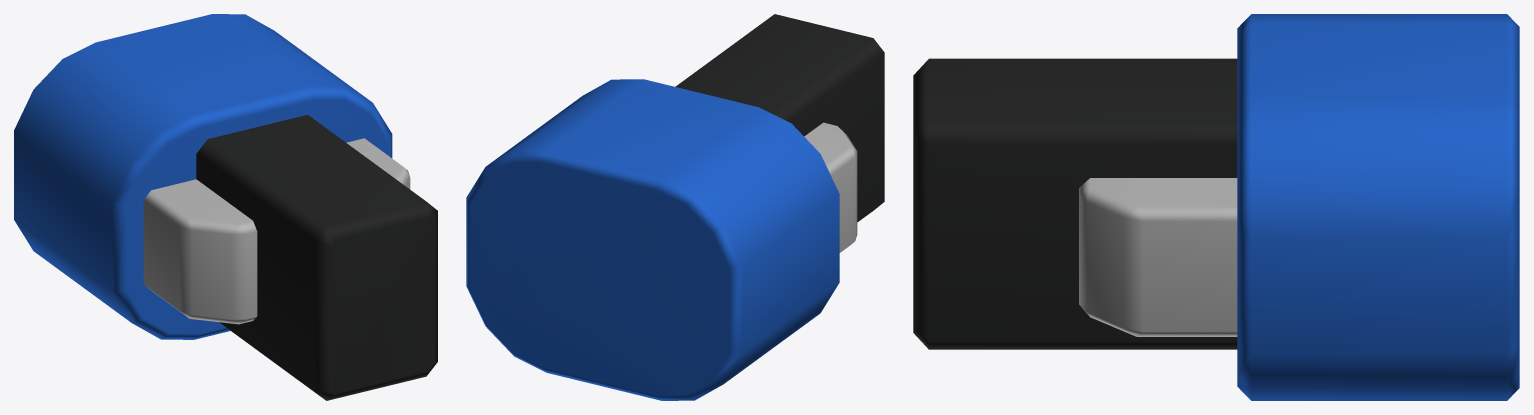
Rendered from connector_001.fbx.
The picture shows the model from 3 angles, left to right: view 1: azimuth 30°, elevation 25°; view 2: azimuth 150°, elevation 25°; view 3: azimuth 270°, elevation 25°; orthographic projection. The views are drawn at different scales.
Parts seen in each view (by area): view 1: connector_001; view 2: connector_001; view 3: connector_001.
Boxes of the visible parts, box(x1,y1,x2,y2) form: connector_001: box(14, 14, 437, 400); connector_001: box(466, 14, 884, 400); connector_001: box(913, 14, 1519, 400).
Size of the model in its own units: 184 by 266 by 142.
